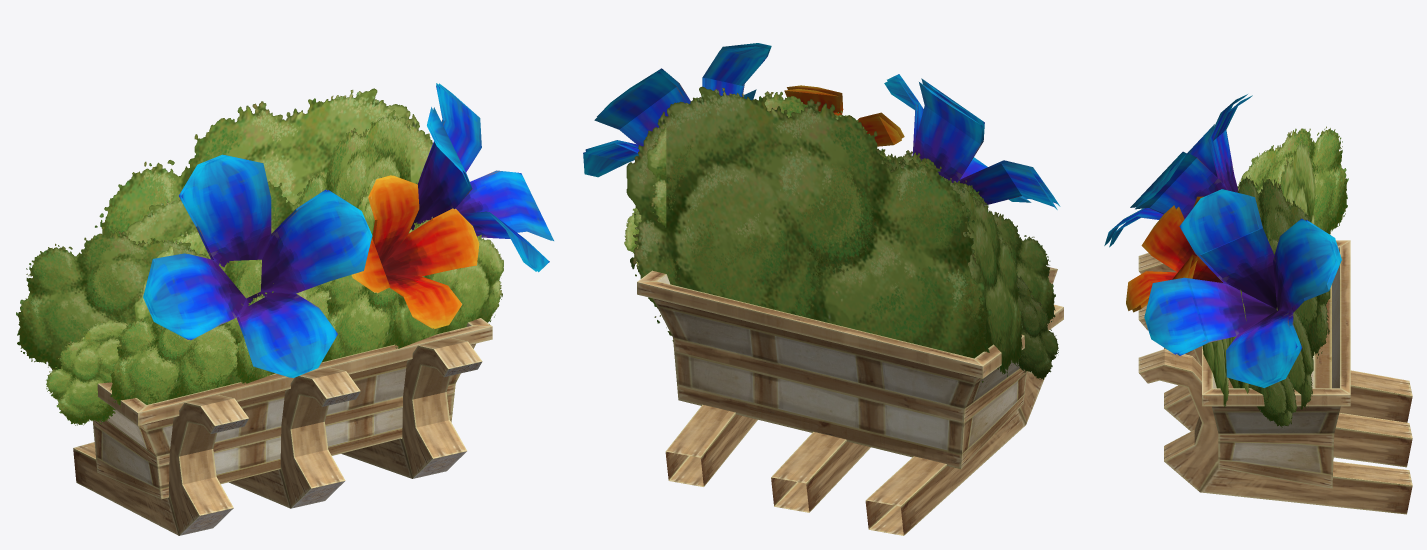
The model's file is flowerBox02.fbx.
The picture shows the model from 3 angles, left to right: view 1: azimuth 30°, elevation 25°; view 2: azimuth 150°, elevation 25°; view 3: azimuth 270°, elevation 25°; orthographic projection. The views are drawn at different scales.
Visible parts, largest first — view 1: polySurface1; view 2: polySurface1; view 3: polySurface1.
Boxes of the visible parts, left/top/right/bottom form: polySurface1: left=16, top=83, right=553, bottom=535; polySurface1: left=583, top=43, right=1063, bottom=535; polySurface1: left=1104, top=94, right=1412, bottom=514.
Bounding box in the file's own units: 6.07 × 4.79 × 3.56.
